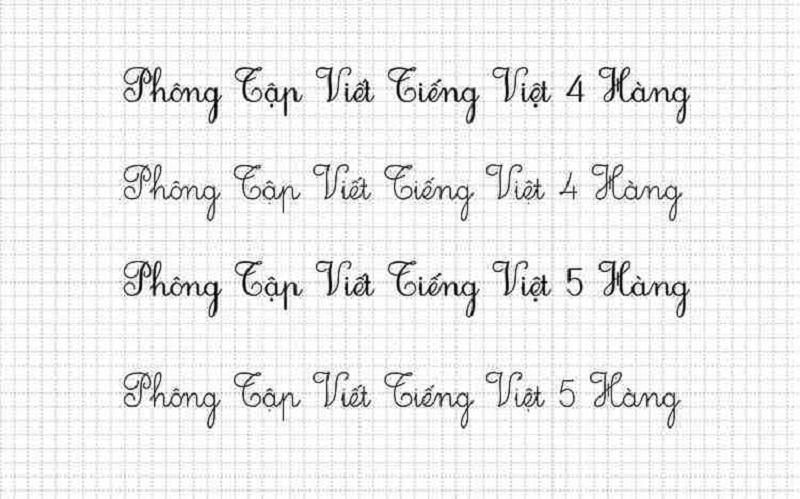text: (121, 160, 685, 223), (121, 63, 691, 125), (122, 258, 692, 319), (120, 370, 683, 431)
